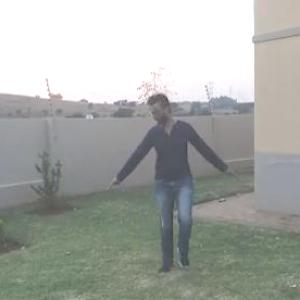land: (100, 92, 240, 280)
